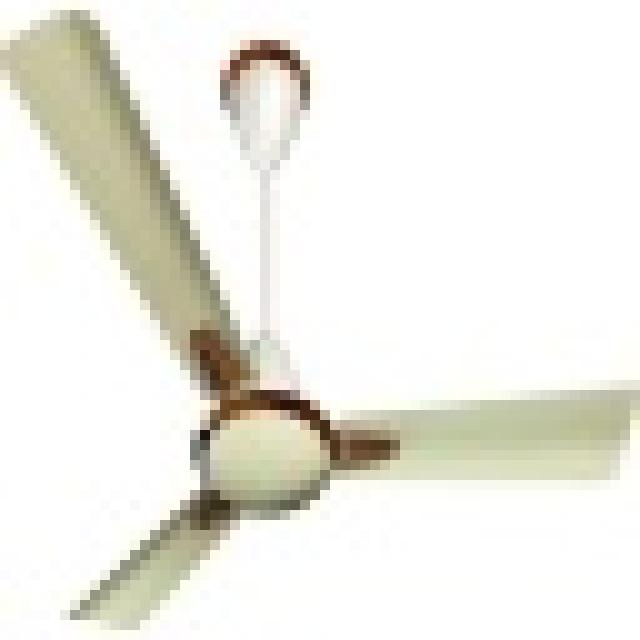Bulb: (13, 43, 627, 640)
